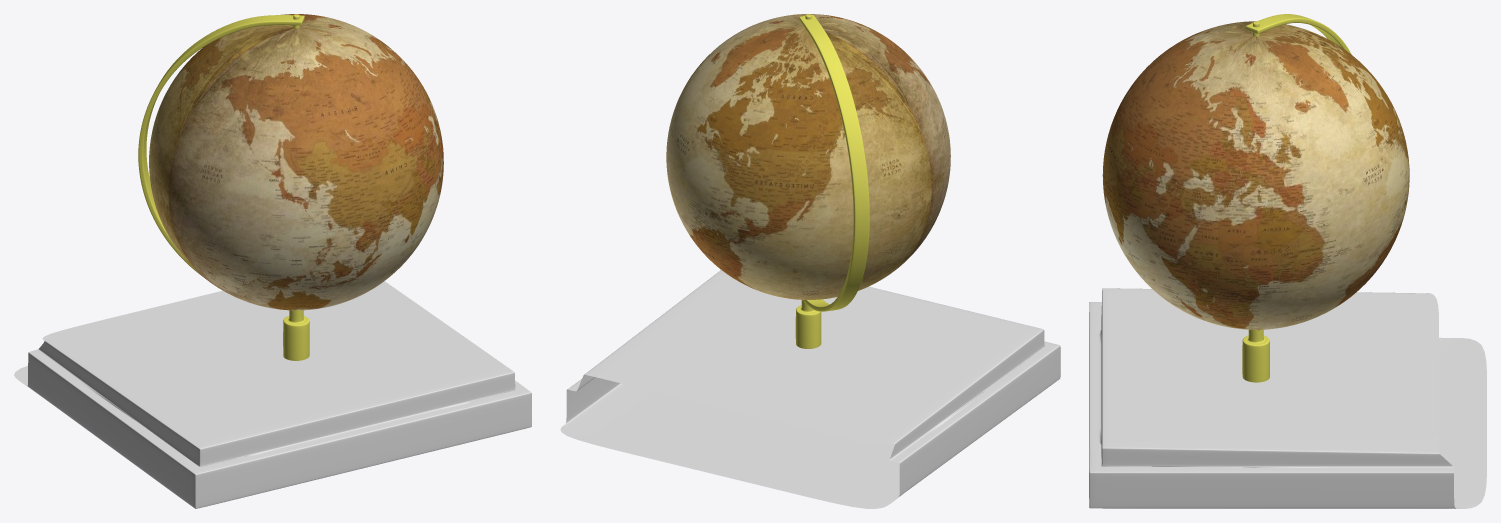
The model's file is Globo_Mapamundi.fbx.
The picture shows the model from 3 angles, left to right: view 1: azimuth 30°, elevation 25°; view 2: azimuth 150°, elevation 25°; view 3: azimuth 270°, elevation 25°; orthographic projection. The views are drawn at different scales.
Parts seen in each view (by area): view 1: Globo; view 2: Globo; view 3: Globo.
Boxes of the visible parts, x1,y1,x2,y2 form: Globo: (14, 14, 531, 508); Globo: (560, 14, 1060, 508); Globo: (1089, 14, 1486, 508).
Size of the model in its own units: 43.09 by 47.81 by 42.32.
Materials: 3 (1 with a texture image).
